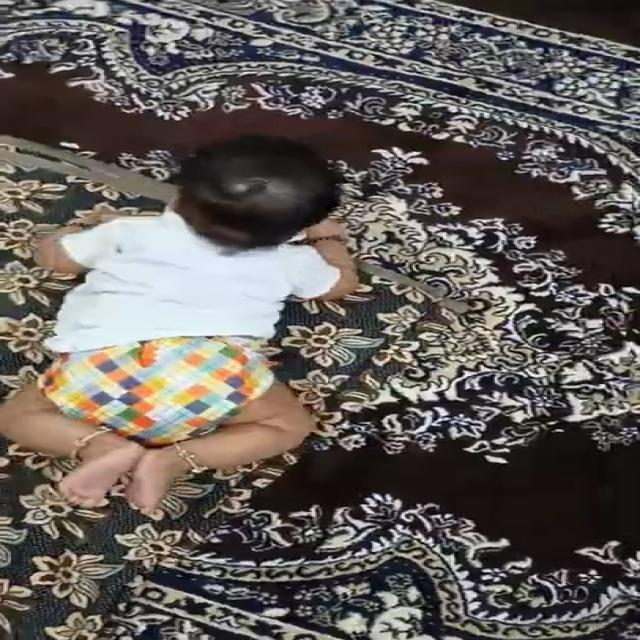baby: (0, 130, 368, 518)
